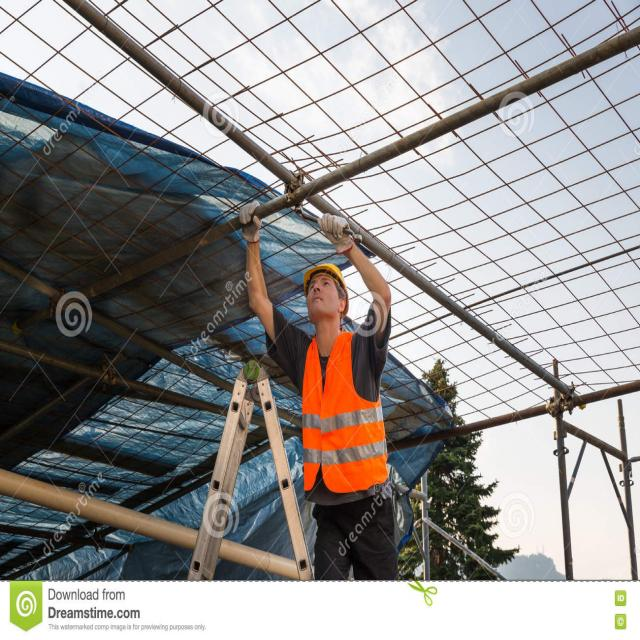Reflective-Jacket: (301, 327, 390, 495)
Safety-Helmet: (301, 258, 349, 290)
